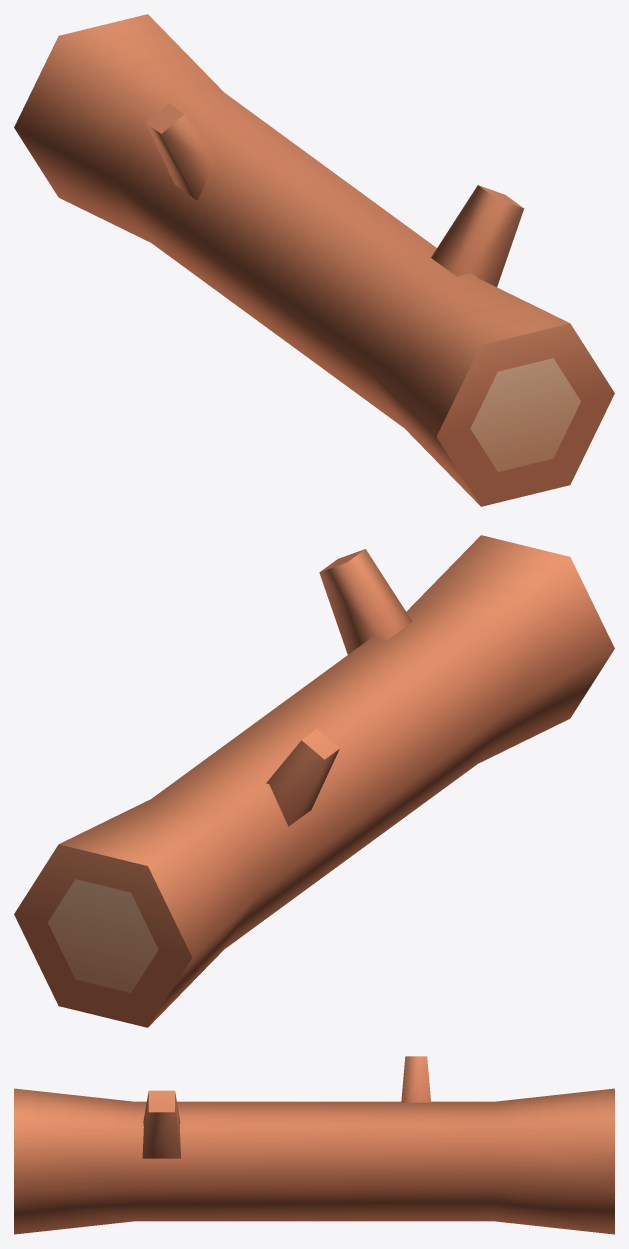
Rendered from tree-log.obj.
3 views of the same model, one above another, from view 1: azimuth 30°, elevation 25°; view 2: azimuth 150°, elevation 25°; view 3: azimuth 270°, elevation 25° (orthographic). The views are drawn at different scales.
Parts seen in each view (by area): view 1: tree-log; view 2: tree-log; view 3: tree-log.
Part boxes in pixels (x1=…): tree-log: x1=14, y1=14, x2=614, y2=506; tree-log: x1=14, y1=535, x2=614, y2=1027; tree-log: x1=14, y1=1056, x2=614, y2=1234.
Size of the model in its own units: 0.2495 by 0.2771 by 1.
Materials: 1 (1 with a texture image).
